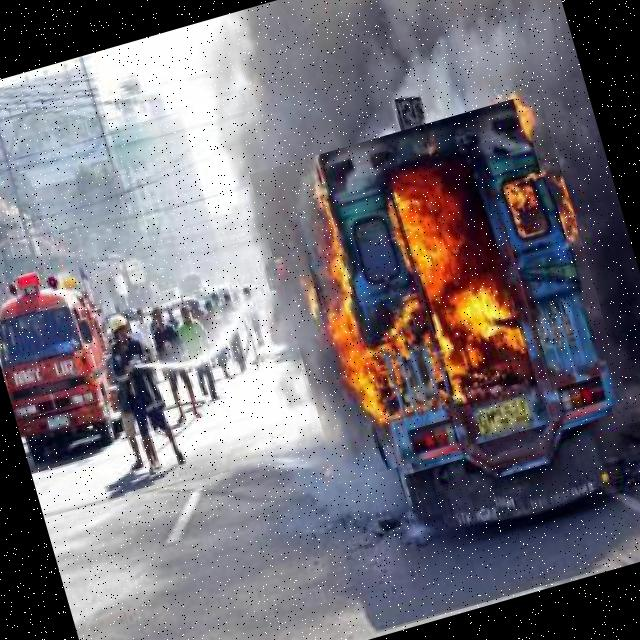fire: (249, 91, 627, 483)
